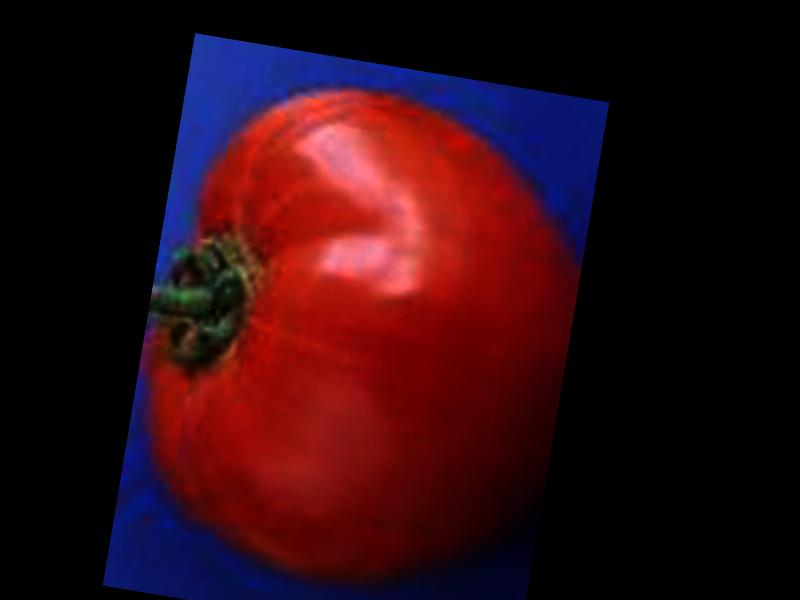Tomato: (112, 61, 601, 600)
